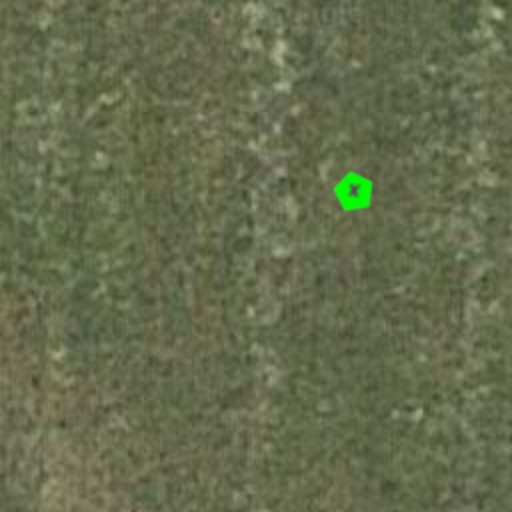pentagon: (330, 168, 378, 216)
